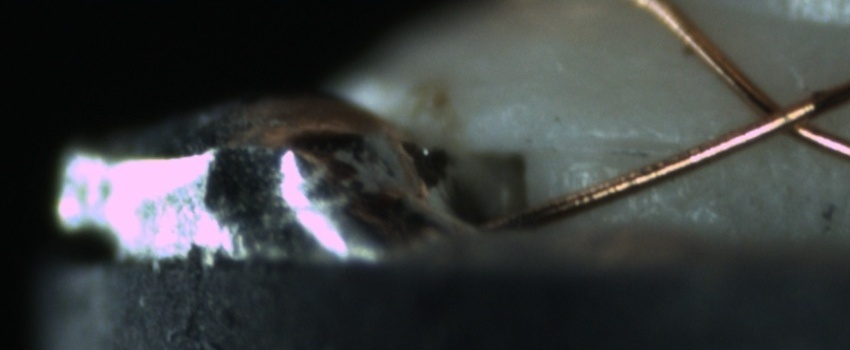CL: (726, 78, 831, 148)
DL: (559, 115, 697, 177)
